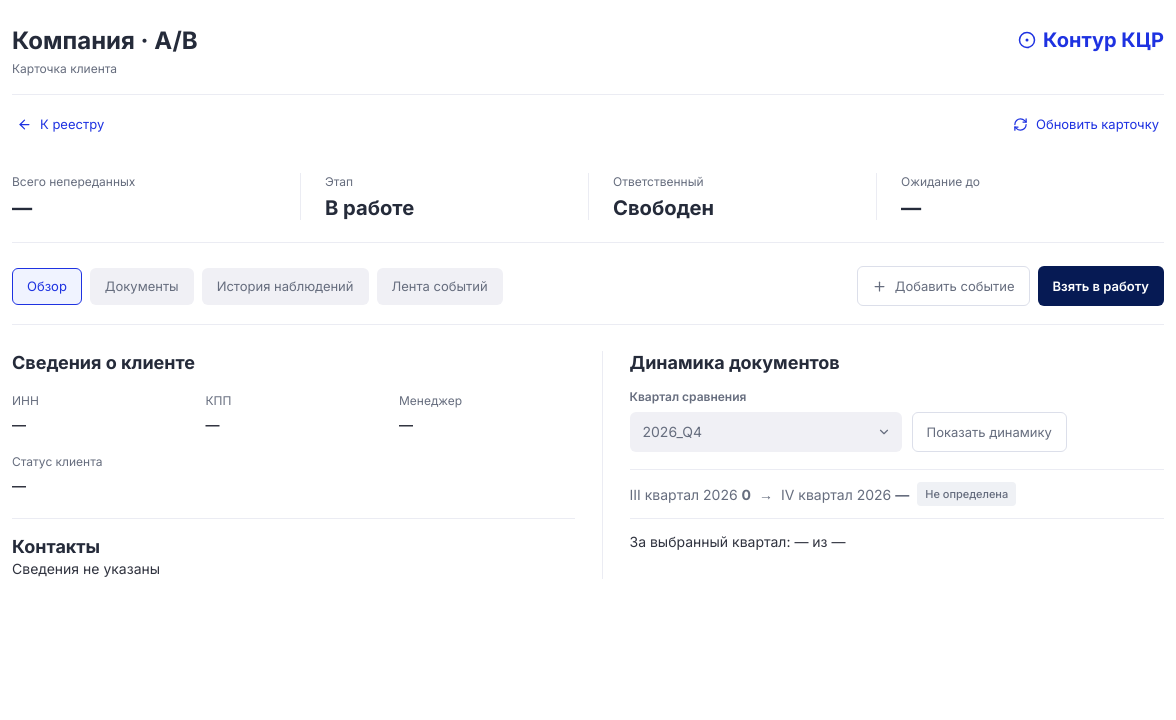
Test: takes only a free client and reports a conflict when its assignment changed
Click the button "Взять в работу" at {"x": 1101, "y": 286}, box [1038,266,1164,306]
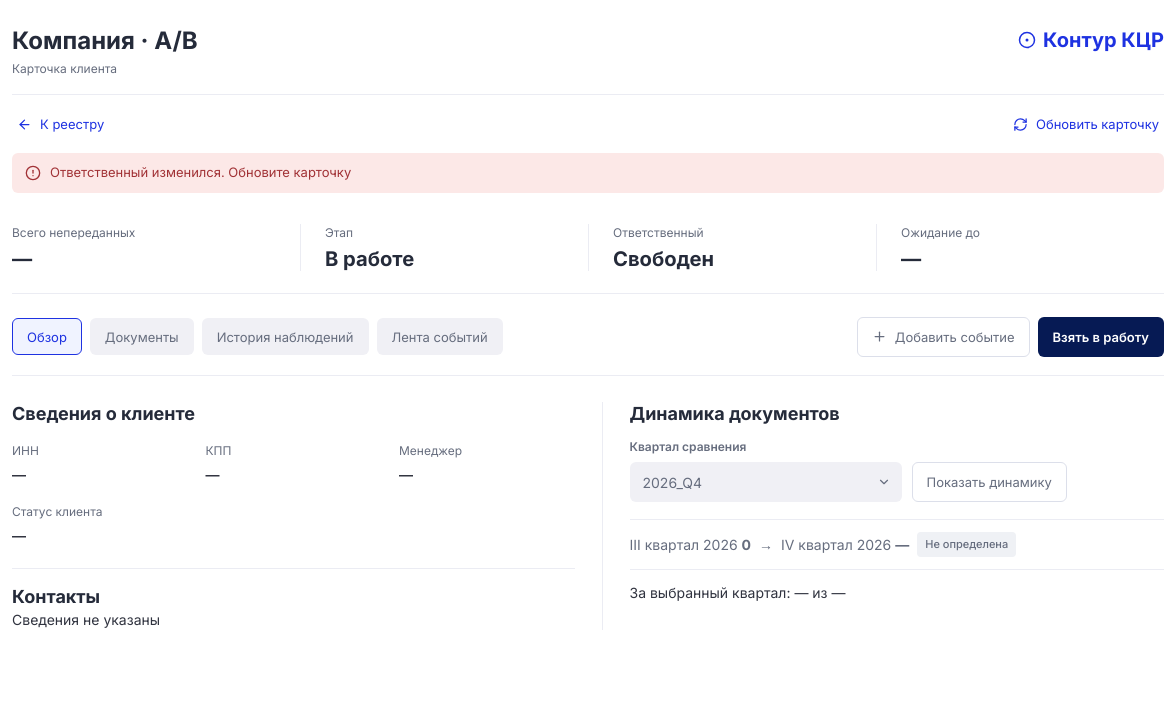
Now the text "Ответственный изменился. Обновите карточку" is shown, box [12,153,1164,193]
